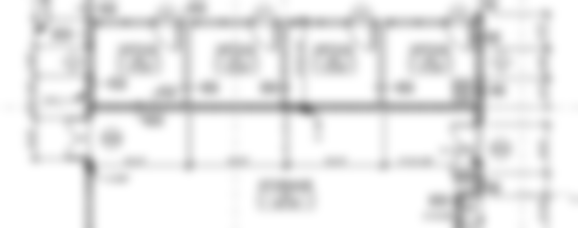door: (151, 22, 183, 53), (248, 22, 280, 51), (345, 23, 377, 52), (445, 23, 477, 52)
double door: (448, 122, 485, 172), (63, 116, 95, 161)
wall: (83, 104, 480, 111), (82, 159, 97, 228), (474, 10, 485, 51), (83, 15, 96, 49), (83, 74, 93, 118), (451, 188, 484, 197)
